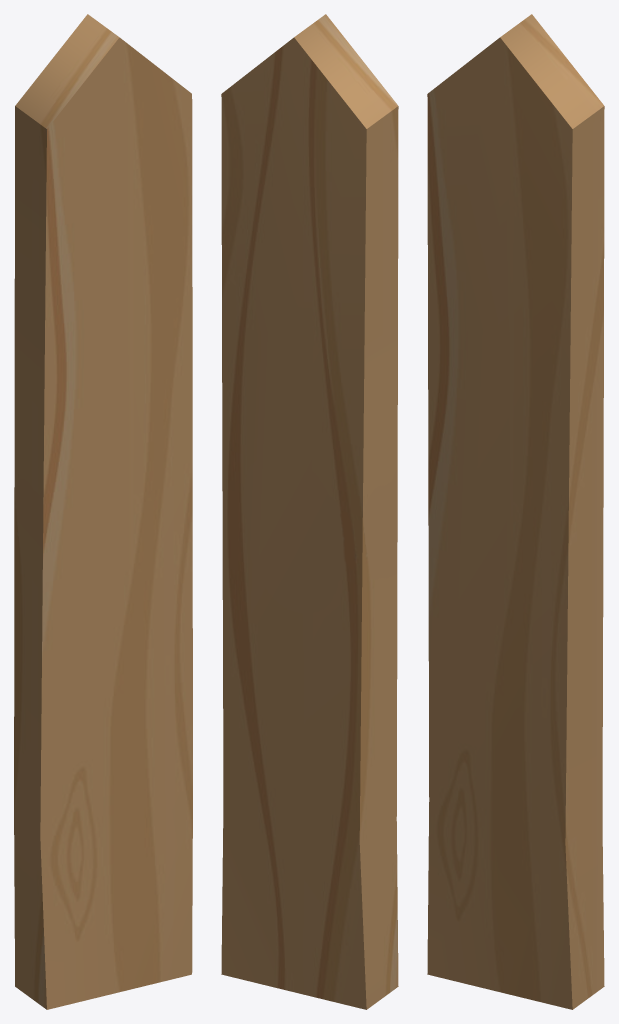
File: wood_fence2.fbx
3 views of the same model, side by side, from view 1: azimuth 30°, elevation 25°; view 2: azimuth 150°, elevation 25°; view 3: azimuth 330°, elevation 25° (orthographic).
Parts seen in each view (by area): view 1: wood_fence2; view 2: wood_fence2; view 3: wood_fence2.
Boxes of the visible parts, bbox=[...] form: wood_fence2: bbox=[14, 14, 192, 1009]; wood_fence2: bbox=[221, 14, 398, 1009]; wood_fence2: bbox=[427, 14, 604, 1009].
Bounding box in the file's own units: 0.4196 × 2.56 × 0.1935.
